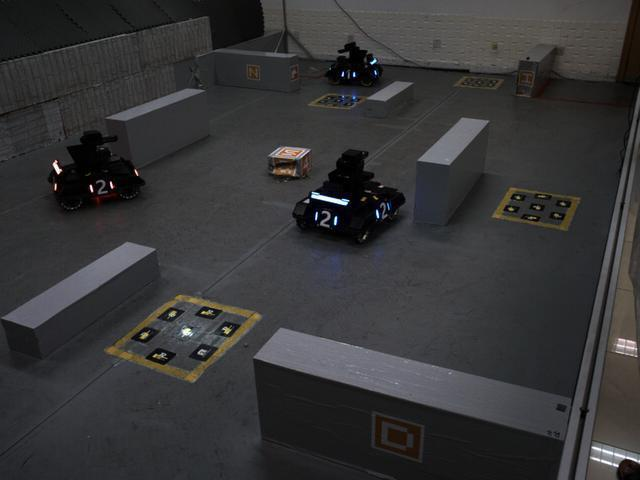armor: (308, 205, 341, 235), (83, 175, 116, 197), (369, 197, 393, 225), (337, 65, 359, 83)
